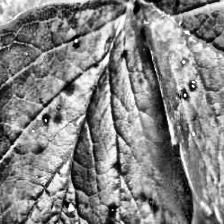Leaf Spot: (0, 0, 194, 224), (129, 0, 224, 224), (0, 0, 133, 115)
